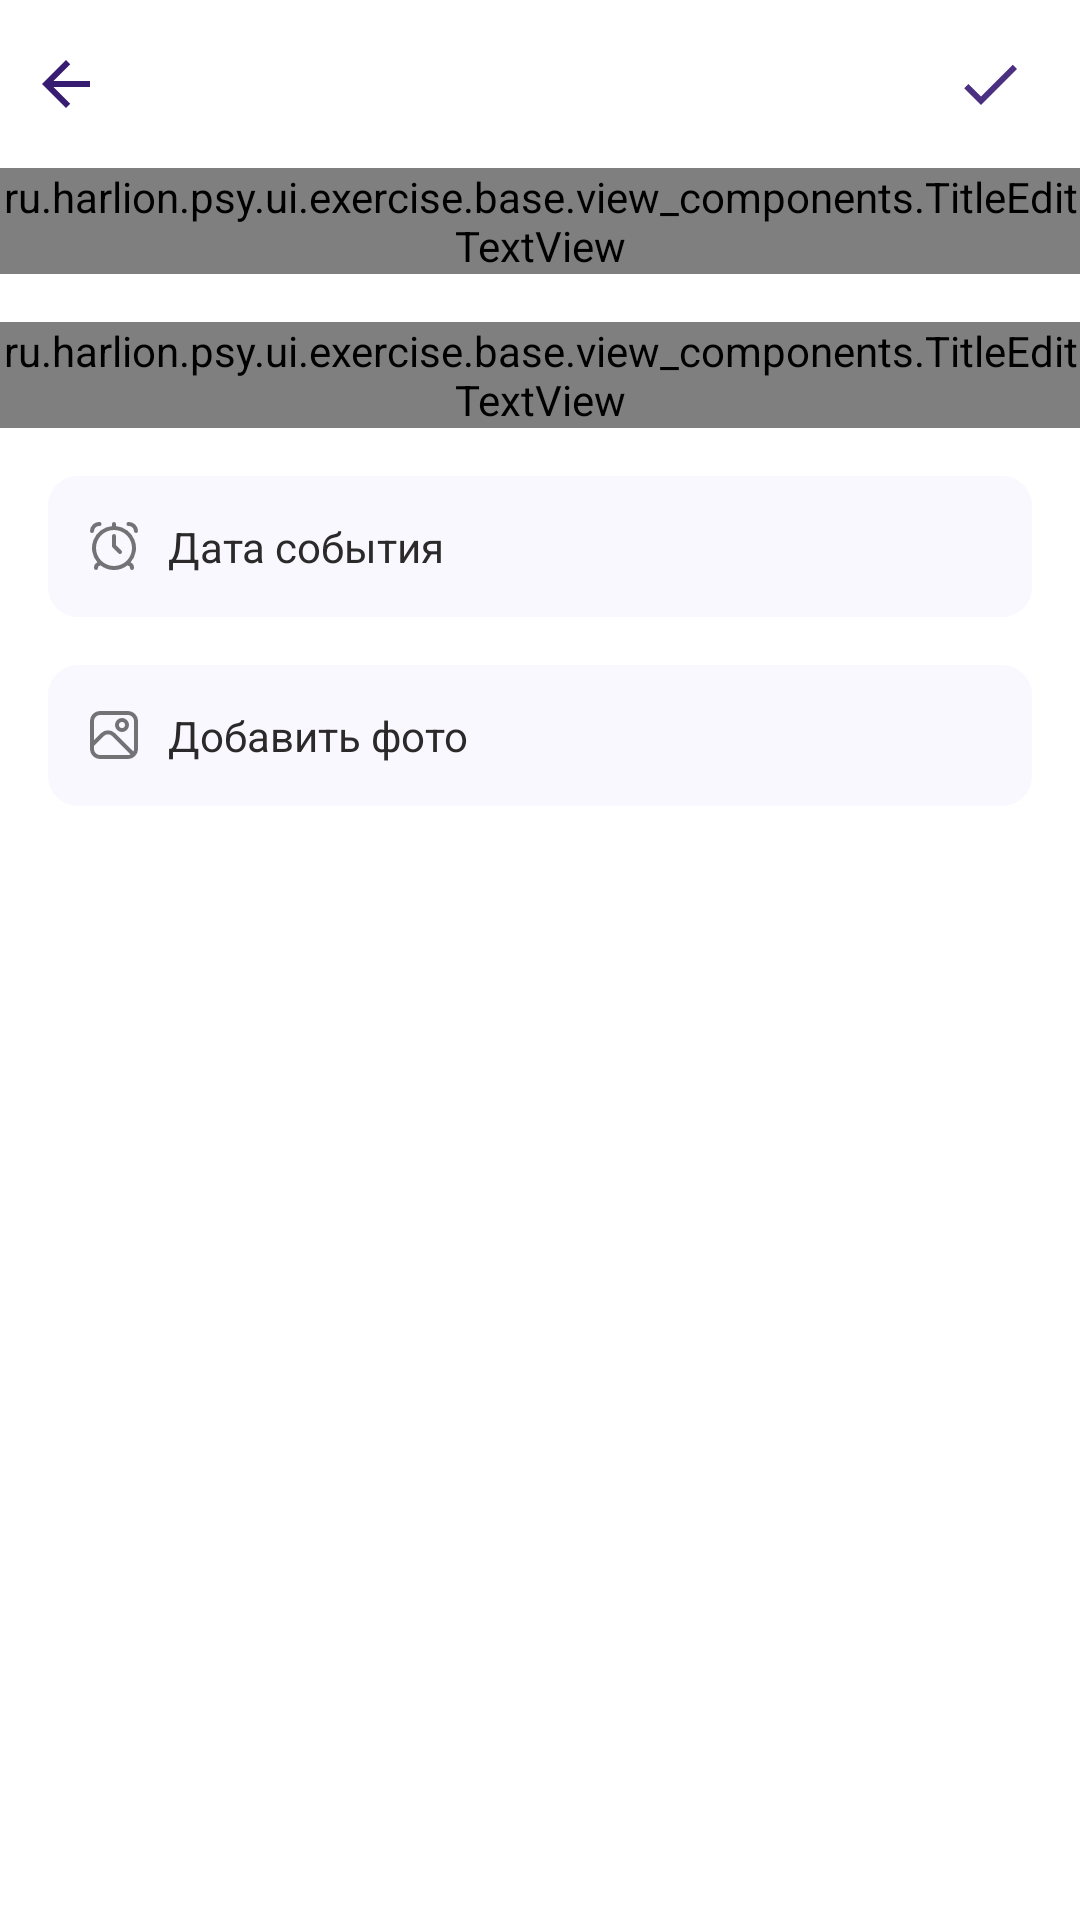

Named icons in this screenshot (1080 x 1920) and their centers, point (x, y):
arrow back: point (66, 84)
done: point (990, 85)
